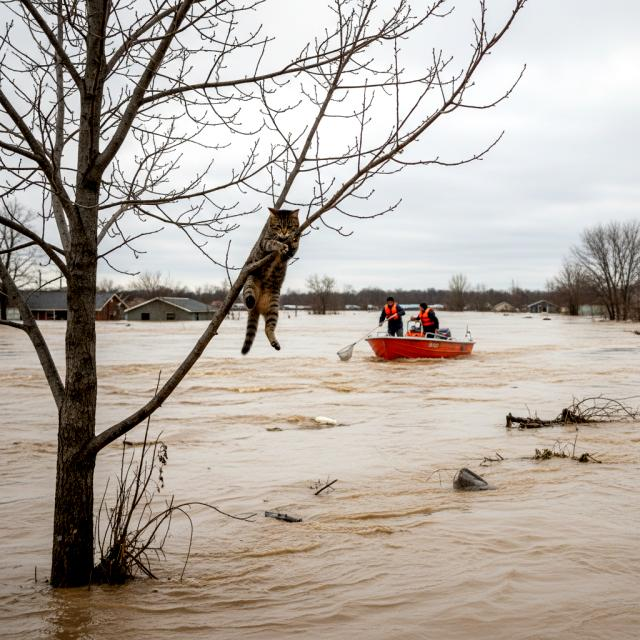cat: (238, 205, 306, 359)
rescuer: (376, 295, 409, 339), (413, 304, 441, 340)
